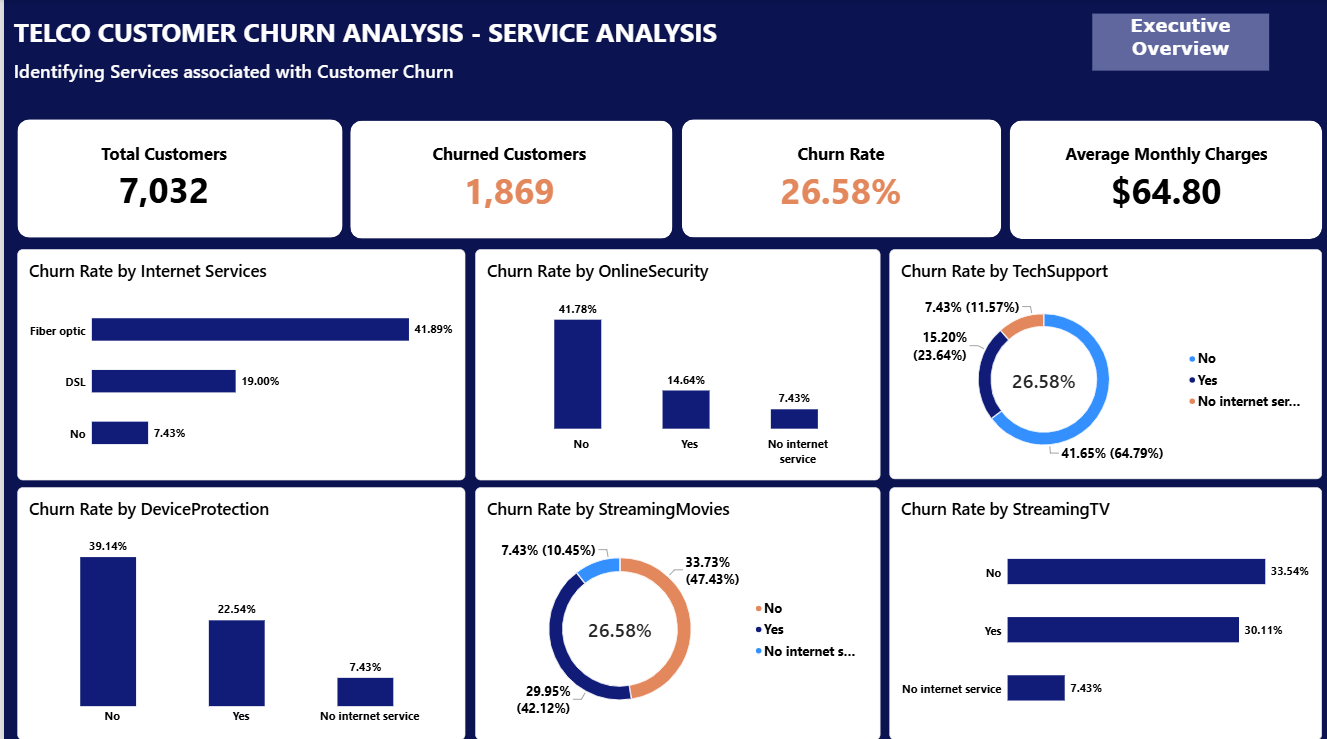

This screenshot's page, from the dashboard's own definition file:
{"tool":"powerbi","page":{"name":"SERVICE & CHURN ANALYSIS","canvas":[1920,1080],"ordinal":3},"visuals":[{"type":"shape","box":[1451.2,175,450.8,170.9],"z":0},{"type":"shape","box":[977.8,172.9,461.1,170.8],"z":1000},{"type":"shape","box":[500.2,175,465.2,170.8],"z":2000},{"type":"shape","box":[18.5,172.9,469.3,170.9],"z":3000},{"type":"cardVisual","fields":{"Data":["Telecom_Churn_Dataset.Total Custojmers"]},"box":[32.9,175,395.2,164.7],"z":4000},{"type":"cardVisual","fields":{"Data":["Telecom_Churn_Dataset.Churned Customers"]},"box":[500.2,172.9,459,170.9],"z":5000},{"type":"cardVisual","fields":{"Data":["Telecom_Churn_Dataset.Churn Rate"]},"box":[996.3,172.9,422,170.9],"z":6000},{"type":"cardVisual","fields":{"Data":["Telecom_Churn_Dataset.Average Monthly Charges"]},"box":[1467.7,172.9,417.9,170.9],"z":7000},{"type":"textbox","box":[14.4,20.6,1101.3,65.9],"z":8000},{"type":"textbox","box":[14.4,86.5,745.2,63.8],"z":9000},{"type":"clusteredBarChart","title":"Churn Rate by Internet Services","fields":{"Category":["Telecom_Churn_Dataset.InternetService"],"Y":["Telecom_Churn_Dataset.Churn Rate"]},"box":[18.5,360.2,646.4,333.5],"z":10000},{"type":"clusteredColumnChart","fields":{"Y":["Telecom_Churn_Dataset.Churn Rate"],"Category":["Telecom_Churn_Dataset.OnlineSecurity"]},"box":[679.3,360.2,584.6,333.5],"z":11000},{"type":"donutChart","fields":{"Category":["Telecom_Churn_Dataset.TechSupport"],"Y":["Telecom_Churn_Dataset.Churn Rate"]},"box":[1278.3,360.2,623.7,331.4],"z":12000},{"type":"clusteredColumnChart","fields":{"Category":["Telecom_Churn_Dataset.DeviceProtection"],"Y":["Telecom_Churn_Dataset.Churn Rate"]},"box":[18.5,704,646.4,364.4],"z":13000},{"type":"donutChart","fields":{"Category":["Telecom_Churn_Dataset.StreamingMovies"],"Y":["Telecom_Churn_Dataset.Churn Rate"]},"box":[679.3,704,584.6,364.4],"z":14000},{"type":"clusteredBarChart","fields":{"Category":["Telecom_Churn_Dataset.StreamingTV"],"Y":["Telecom_Churn_Dataset.Churn Rate"]},"box":[1278.3,704,623.7,364.3],"z":15000},{"type":"actionButton","title":"Executive Overview","box":[1570.6,20.6,255.3,82.3],"z":20000}]}

Visuals, with their boxes in screenshot pixels (x1, y1, x2, y2), scaled from the page's 1920x1080 canvas onto the 1327x739 screenshot:
shape: <box>1003,120,1315,237</box>
shape: <box>676,118,994,235</box>
shape: <box>346,120,667,237</box>
shape: <box>13,118,337,235</box>
cardVisual - Telecom_Churn_Dataset.Total Custojmers: <box>23,120,296,232</box>
cardVisual - Telecom_Churn_Dataset.Churned Customers: <box>346,118,663,235</box>
cardVisual - Telecom_Churn_Dataset.Churn Rate: <box>689,118,980,235</box>
cardVisual - Telecom_Churn_Dataset.Average Monthly Charges: <box>1014,118,1303,235</box>
textbox: <box>10,14,771,59</box>
textbox: <box>10,59,525,103</box>
"Churn Rate by Internet Services" clusteredBarChart: <box>13,246,460,475</box>
clusteredColumnChart - Telecom_Churn_Dataset.Churn Rate x Telecom_Churn_Dataset.OnlineSecurity: <box>469,246,874,475</box>
donutChart - Telecom_Churn_Dataset.TechSupport x Telecom_Churn_Dataset.Churn Rate: <box>883,246,1315,473</box>
clusteredColumnChart - Telecom_Churn_Dataset.DeviceProtection x Telecom_Churn_Dataset.Churn Rate: <box>13,482,460,731</box>
donutChart - Telecom_Churn_Dataset.StreamingMovies x Telecom_Churn_Dataset.Churn Rate: <box>469,482,874,731</box>
clusteredBarChart - Telecom_Churn_Dataset.StreamingTV x Telecom_Churn_Dataset.Churn Rate: <box>883,482,1315,731</box>
"Executive Overview" actionButton: <box>1086,14,1262,70</box>
